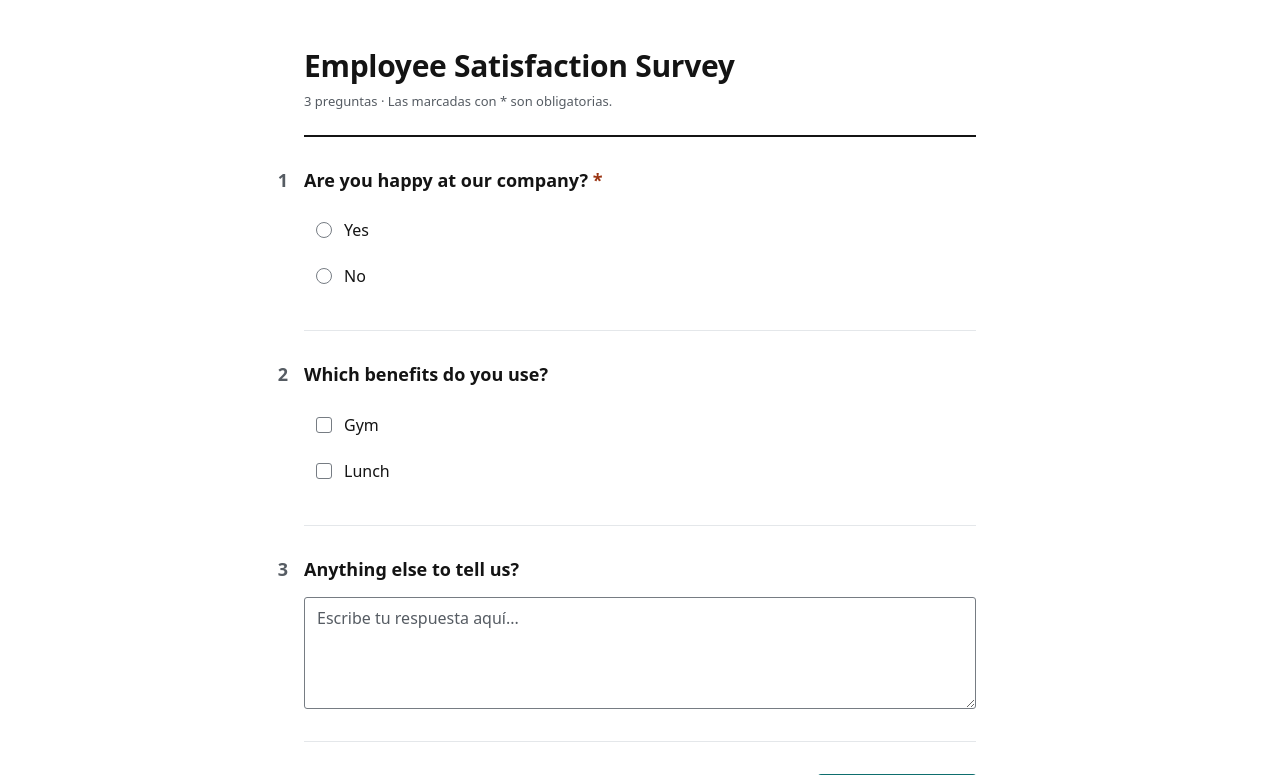
SurveyAnsweringPage (REQ-FE-023, REQ-FE-024, REQ-FE-034) › AC-FE-024-2: a submission rejected with 404 shows the API detail in a toast
Step 1. Click the radio button named "Yes" next to "Yes" → (324, 230), box [316,222,332,238]
(page scrolled)
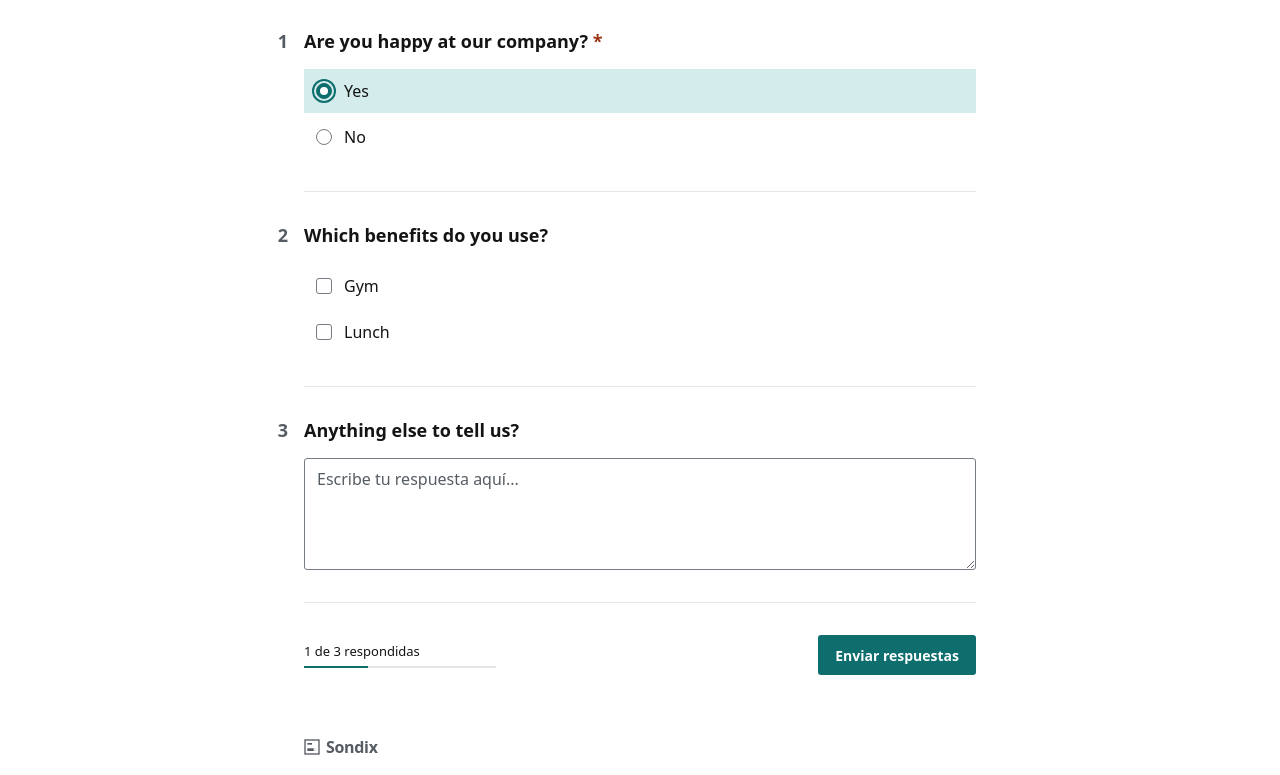
Step 2. Click the button "Enviar respuestas" → (897, 655), box [818,635,976,675]
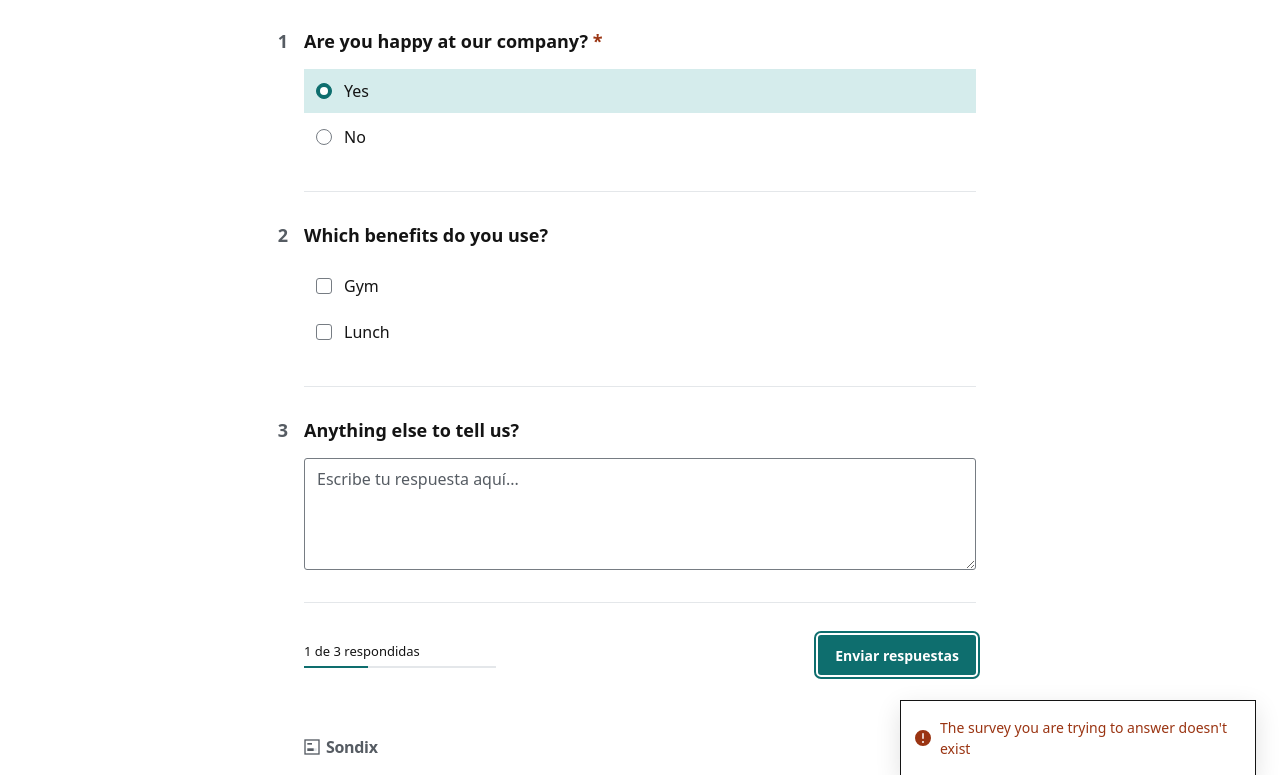
Check: the text "The survey you are trying to answer doesn't exist" is shown, box [940,717,1239,759]
